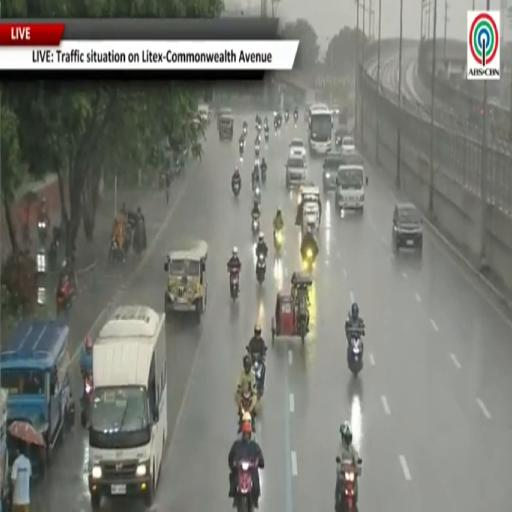bus: (89, 306, 167, 510), (335, 164, 367, 213), (308, 104, 333, 154)
car: (323, 152, 363, 191), (392, 202, 422, 253), (323, 152, 343, 191), (286, 156, 306, 188), (334, 125, 350, 148), (289, 138, 306, 157), (198, 104, 211, 124), (341, 136, 355, 152), (332, 102, 339, 115)
jeepney: (0, 319, 74, 461), (165, 240, 208, 319), (297, 186, 320, 233), (0, 390, 8, 503), (219, 115, 233, 140)
motorcycle: (336, 457, 362, 511), (236, 460, 255, 511), (239, 390, 255, 433), (347, 333, 363, 376), (81, 373, 93, 427), (56, 279, 74, 313), (297, 296, 309, 342), (252, 354, 264, 399), (48, 227, 60, 270), (109, 238, 124, 263), (256, 253, 266, 284), (302, 249, 315, 272), (230, 270, 239, 301), (38, 217, 47, 246), (274, 229, 284, 253), (252, 214, 260, 234), (232, 181, 241, 197), (252, 173, 259, 191), (254, 186, 260, 204), (159, 173, 165, 189), (264, 127, 270, 143), (261, 166, 266, 184), (242, 124, 248, 136), (255, 144, 260, 157), (294, 110, 298, 125), (240, 141, 244, 156), (255, 123, 261, 133), (285, 110, 288, 123)
tricycle: (271, 272, 312, 345)
